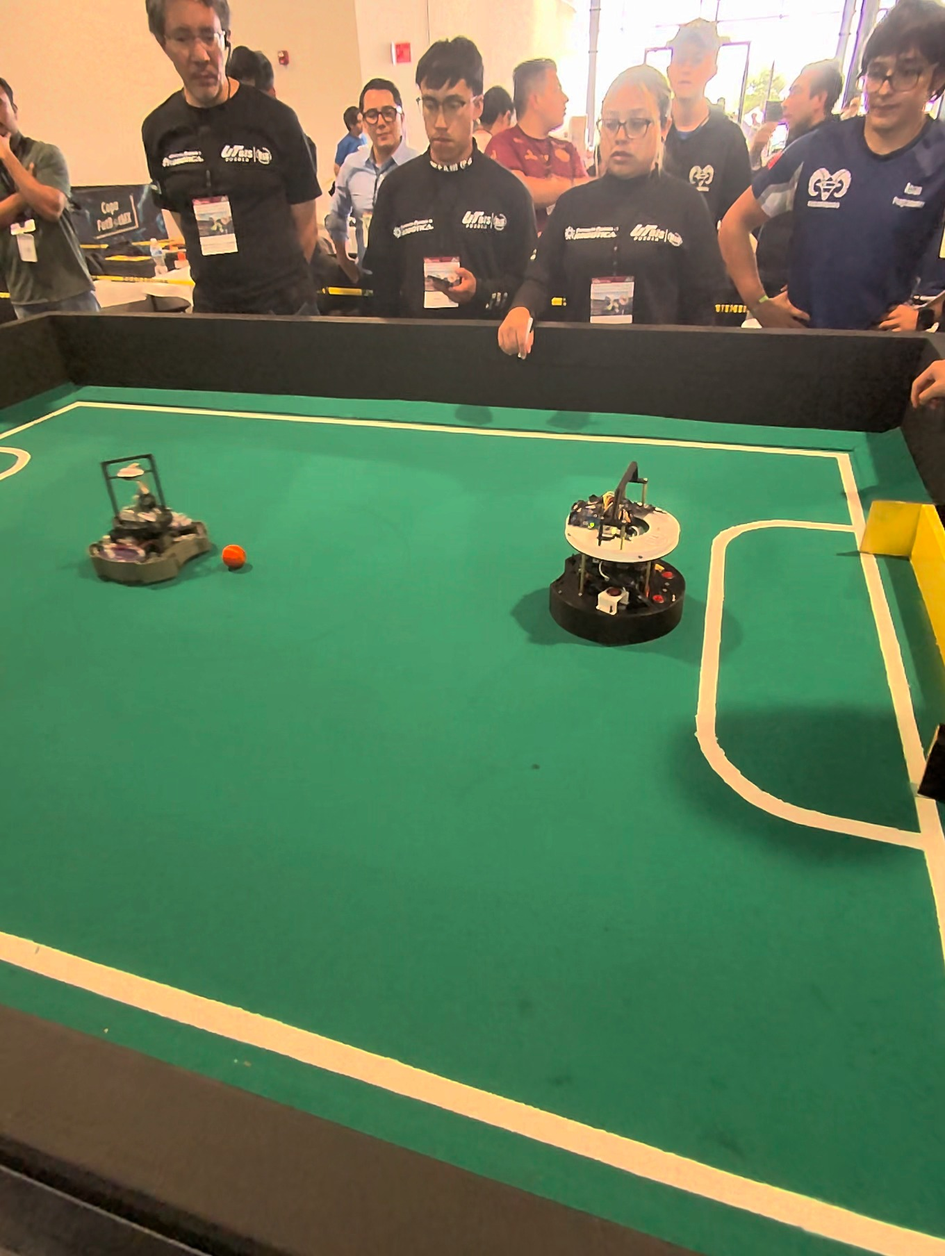Robot: (551, 457, 691, 651), (80, 442, 207, 590)
pelota: (216, 537, 266, 582)
